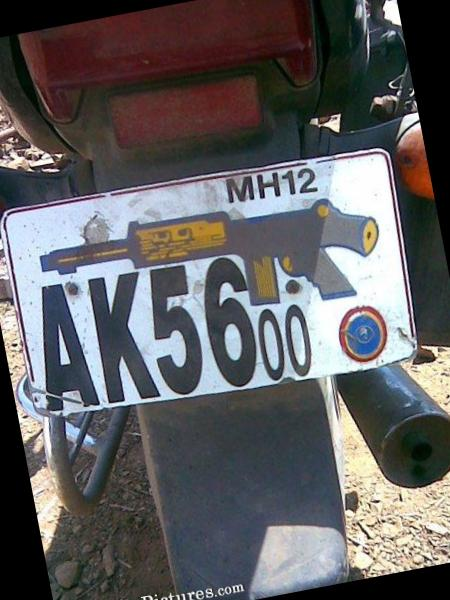plate: (0, 137, 427, 435)
